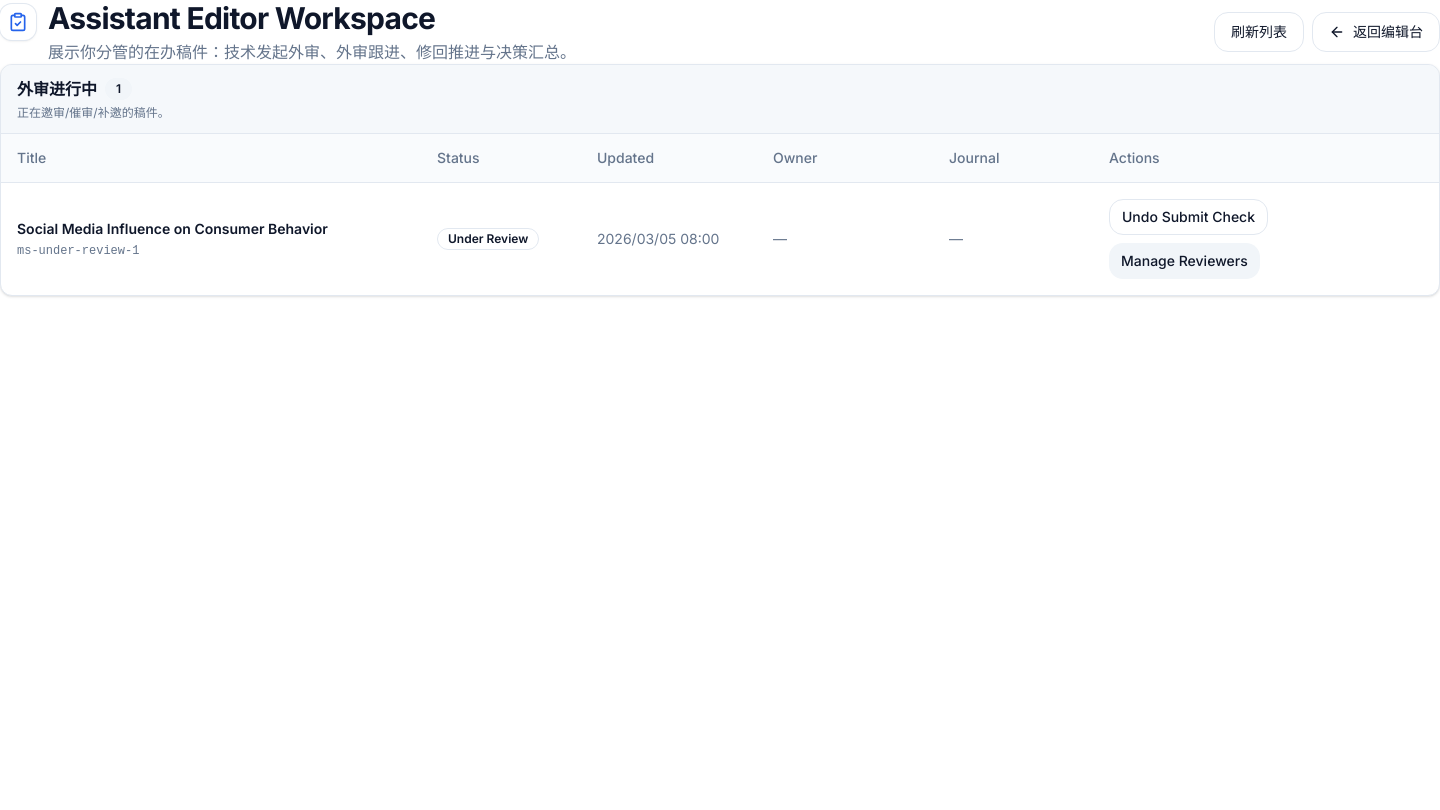
Scenario: AEWorkspacePanel revert technical check › opens and closes revert dialog without empty manuscript placeholder
Click the button "Undo Submit Check": (1188, 216) 1109,198 -> 1268,234
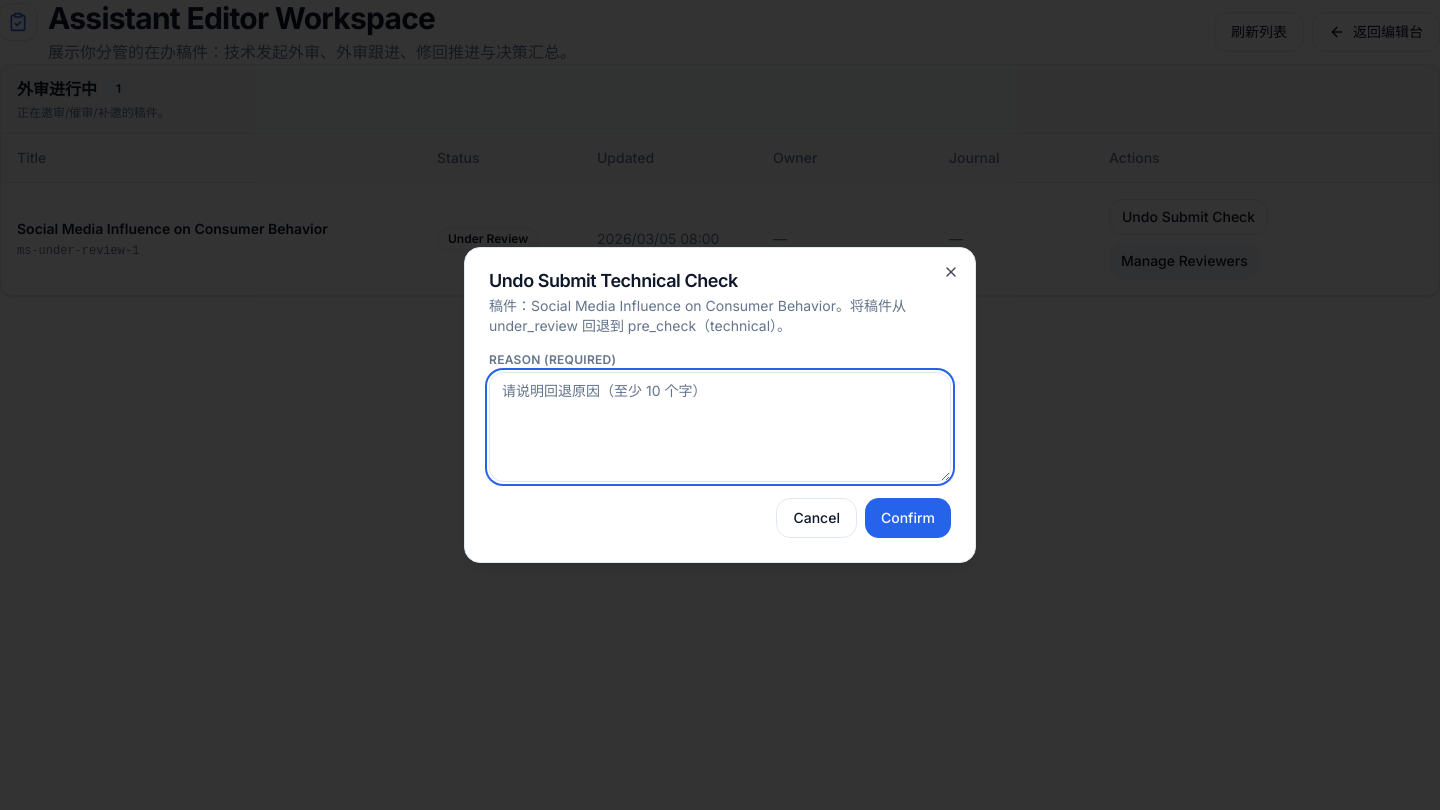
Check: the heading "Undo Submit Technical Check" is shown, box 489,270 -> 738,291
Click the button "Cancel": (817, 518) 776,498 -> 857,538
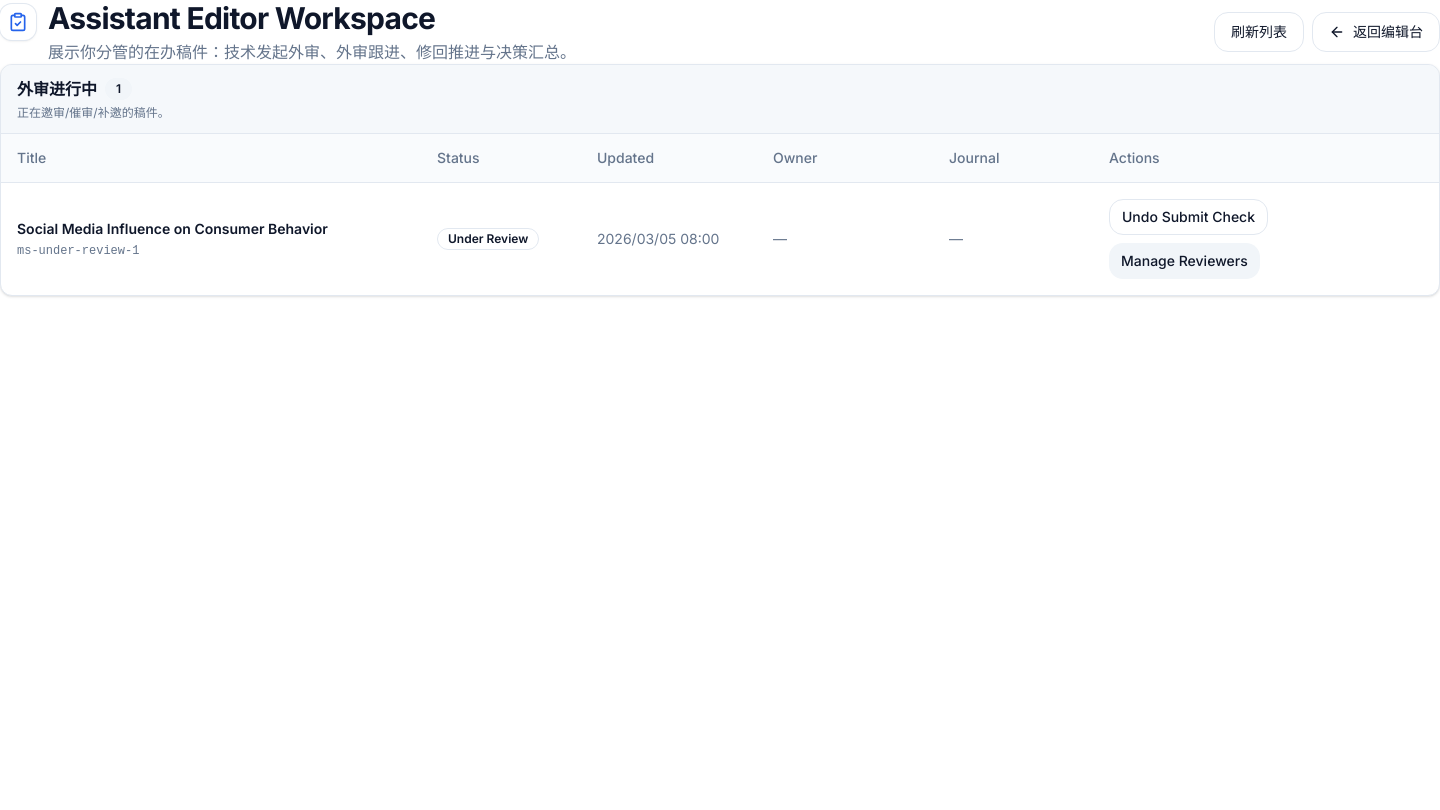
Check: the heading "Undo Submit Technical Check" is gone
